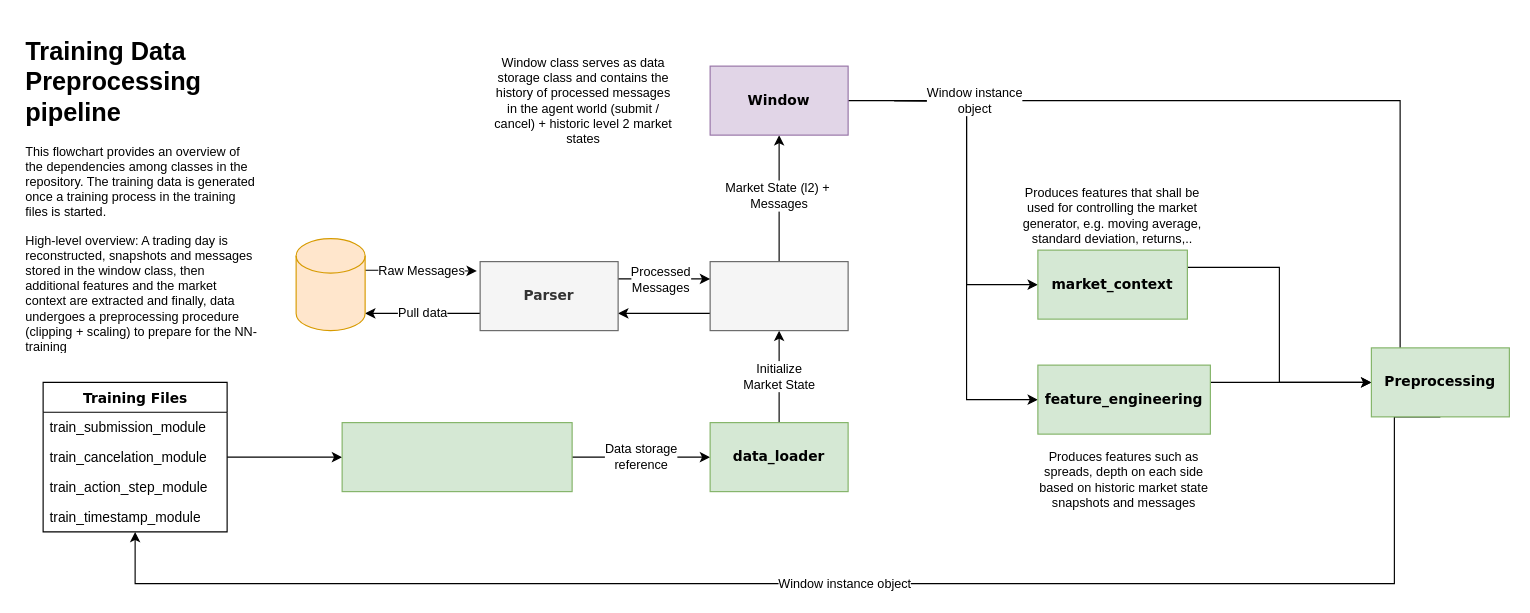
The diagram is 1530 pixels wide and 613 high, and some of its shapes have lost their labels. Here are the shapes that lost their labels. From the top down, the centre of each, then its label:
At (330,284): "EOBI".
At (778,295): "Market State".
At (456,456): "prepare_training_data".
